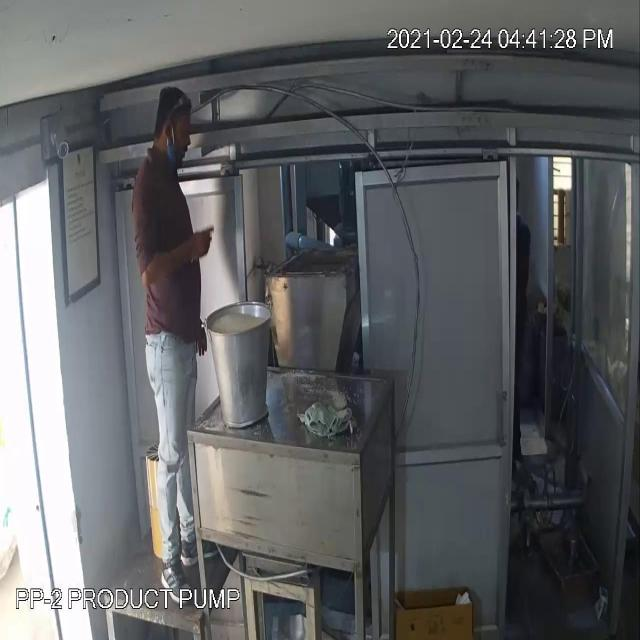no-helmet: (154, 84, 194, 160)
